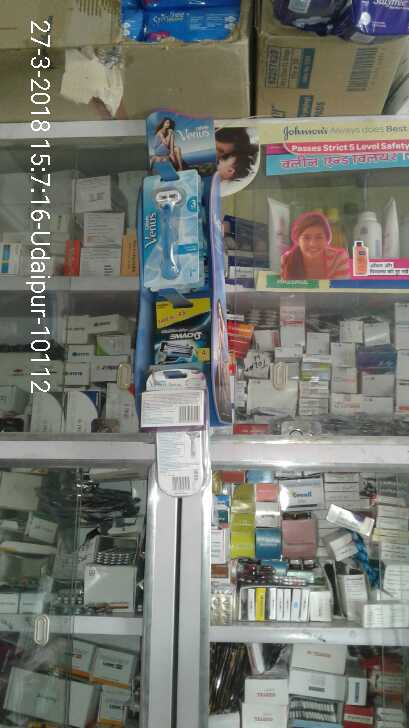beauty: (142, 169, 203, 294), (146, 300, 211, 367)
